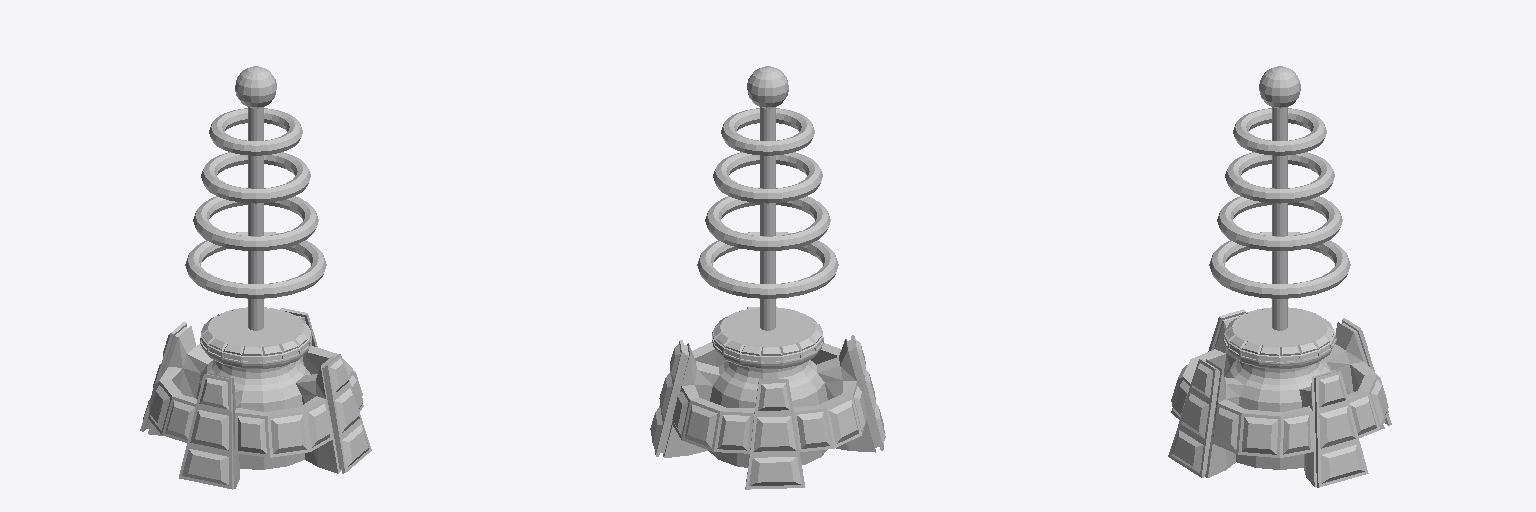
The model's file is PowerSource.obj.
3 views of the same model, side by side, from view 1: azimuth 30°, elevation 25°; view 2: azimuth 150°, elevation 25°; view 3: azimuth 270°, elevation 25° (orthographic).
Visible parts, largest first — view 1: Cylinder_Cylinder.001; view 2: Cylinder_Cylinder.001; view 3: Cylinder_Cylinder.001.
Part boxes in pixels (left/top/right/bottom): Cylinder_Cylinder.001: left=140, top=66, right=371, bottom=489; Cylinder_Cylinder.001: left=650, top=66, right=885, bottom=489; Cylinder_Cylinder.001: left=1168, top=66, right=1391, bottom=487.
Bounding box in the file's own units: 2.85 × 5.27 × 2.85.